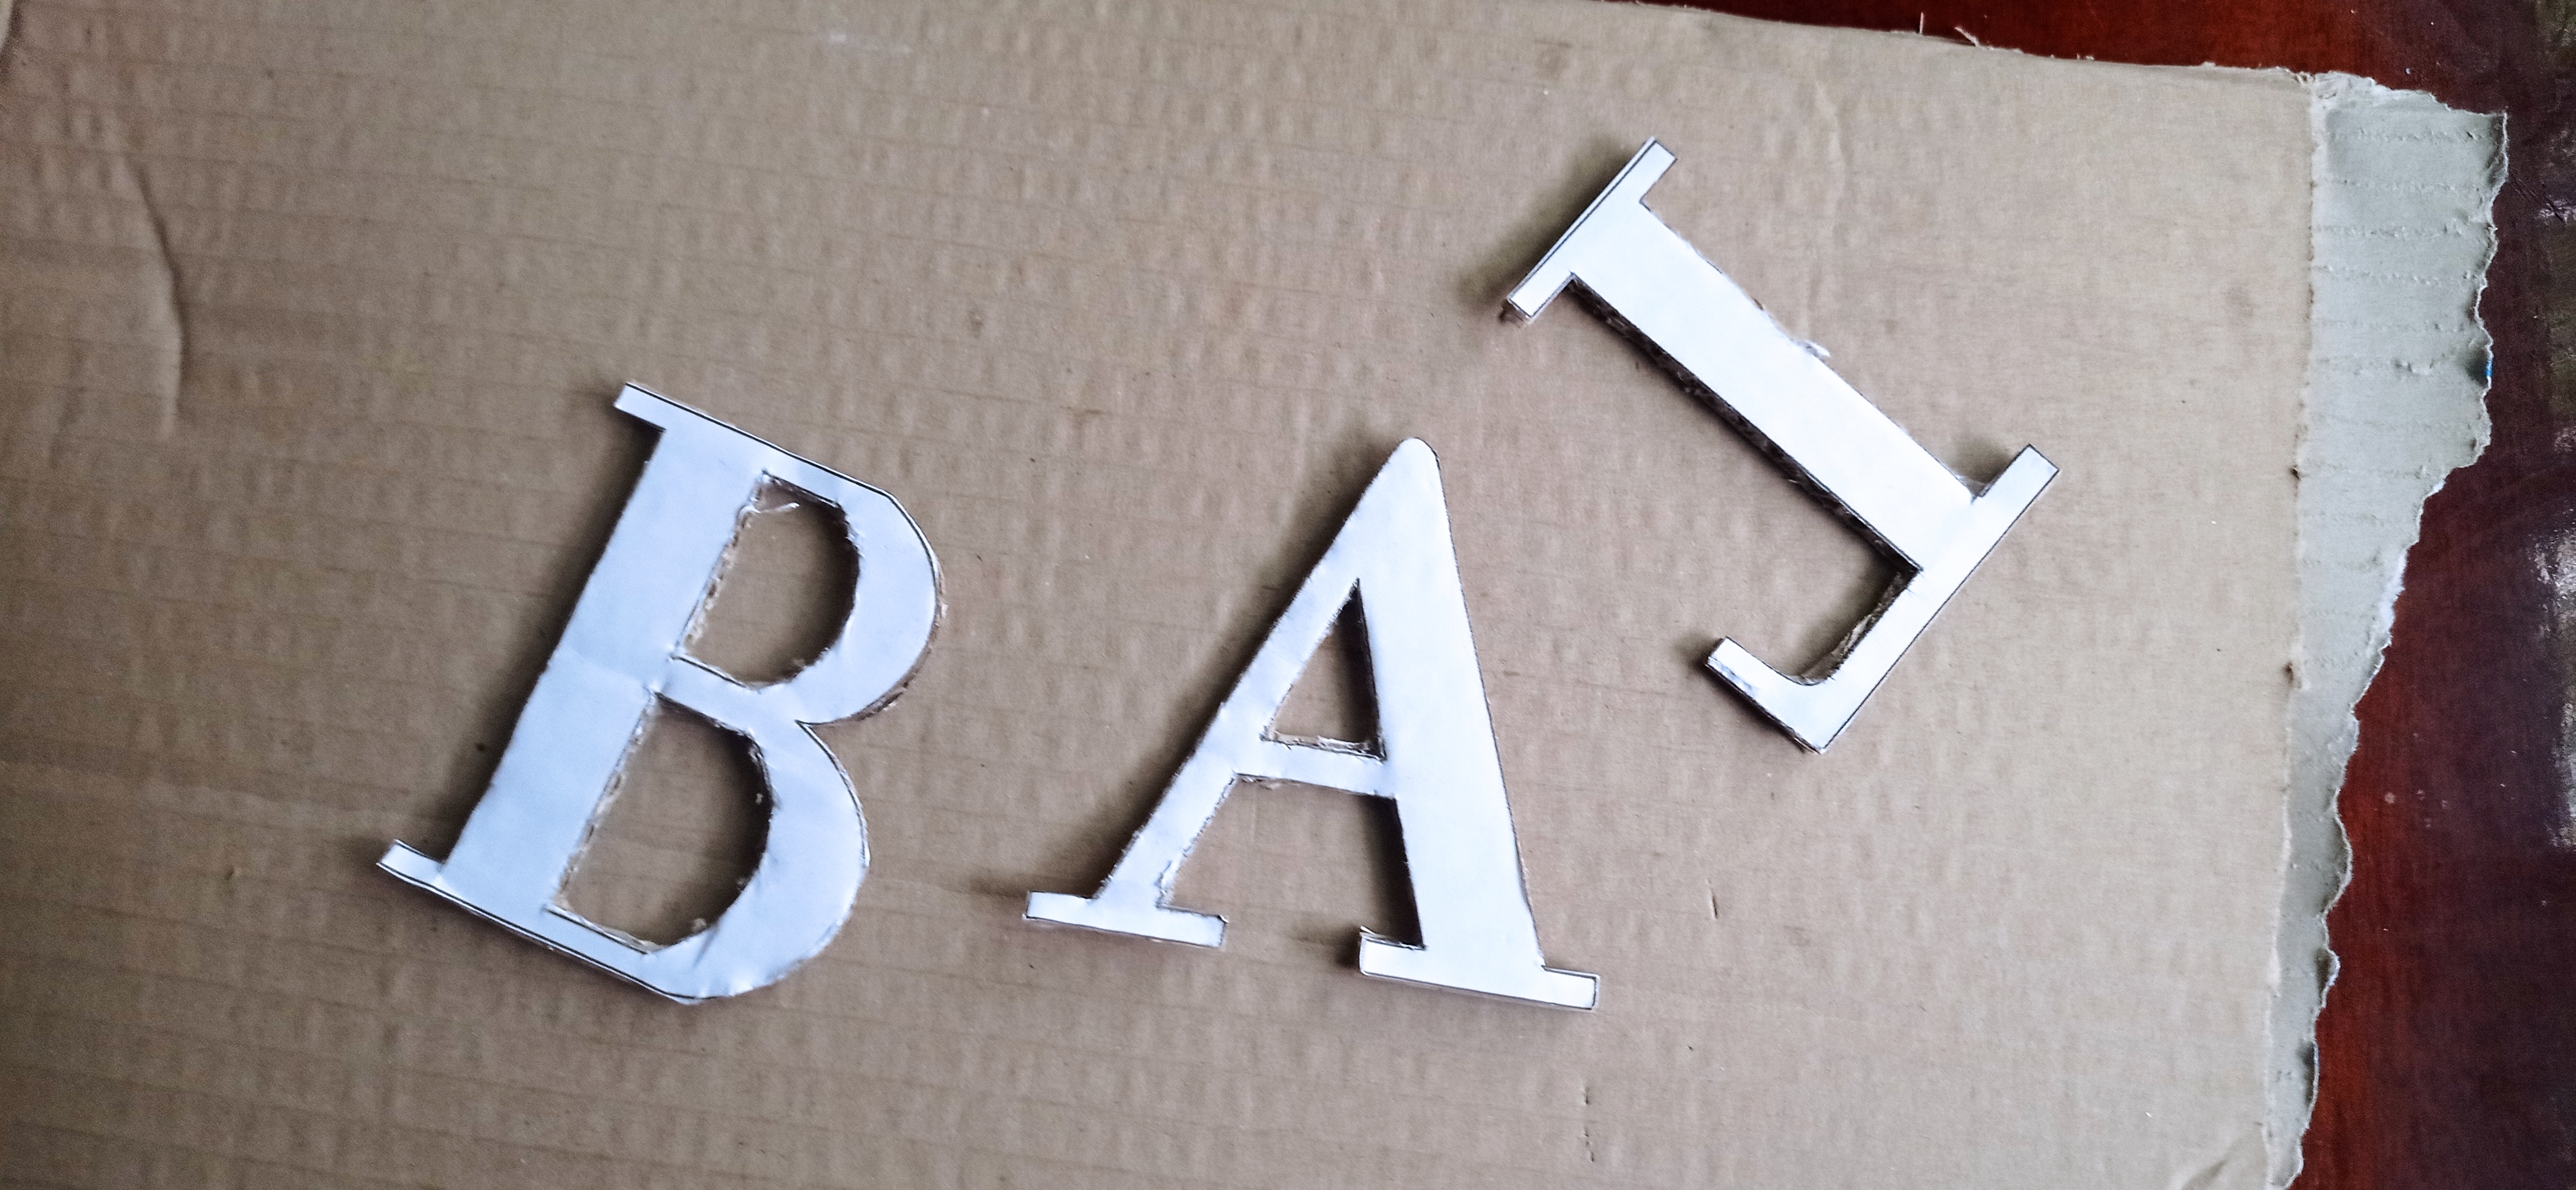a: (1020, 436, 1602, 1016)
g: (1500, 133, 2063, 756)
v: (378, 380, 946, 1022)
